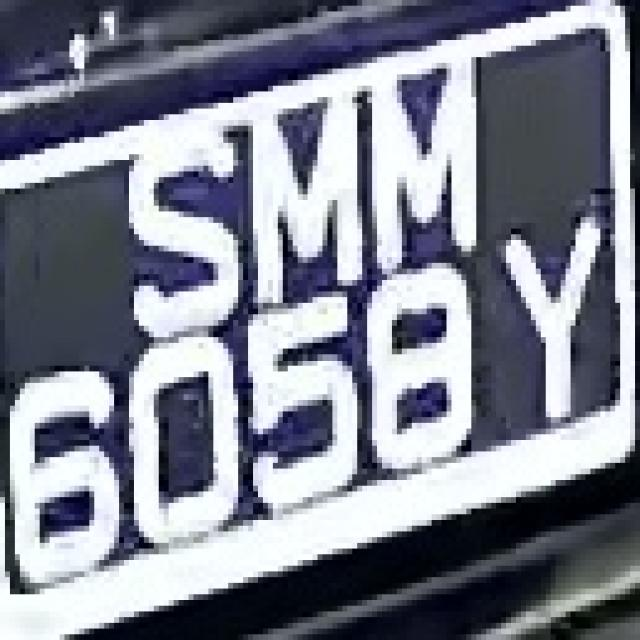0: (124, 326, 258, 554)
5: (243, 292, 367, 514)
6: (10, 343, 119, 600)
8: (348, 269, 477, 480)
M: (357, 46, 491, 280), (243, 80, 372, 303)
S: (119, 108, 258, 326)
Y: (491, 228, 600, 428)
